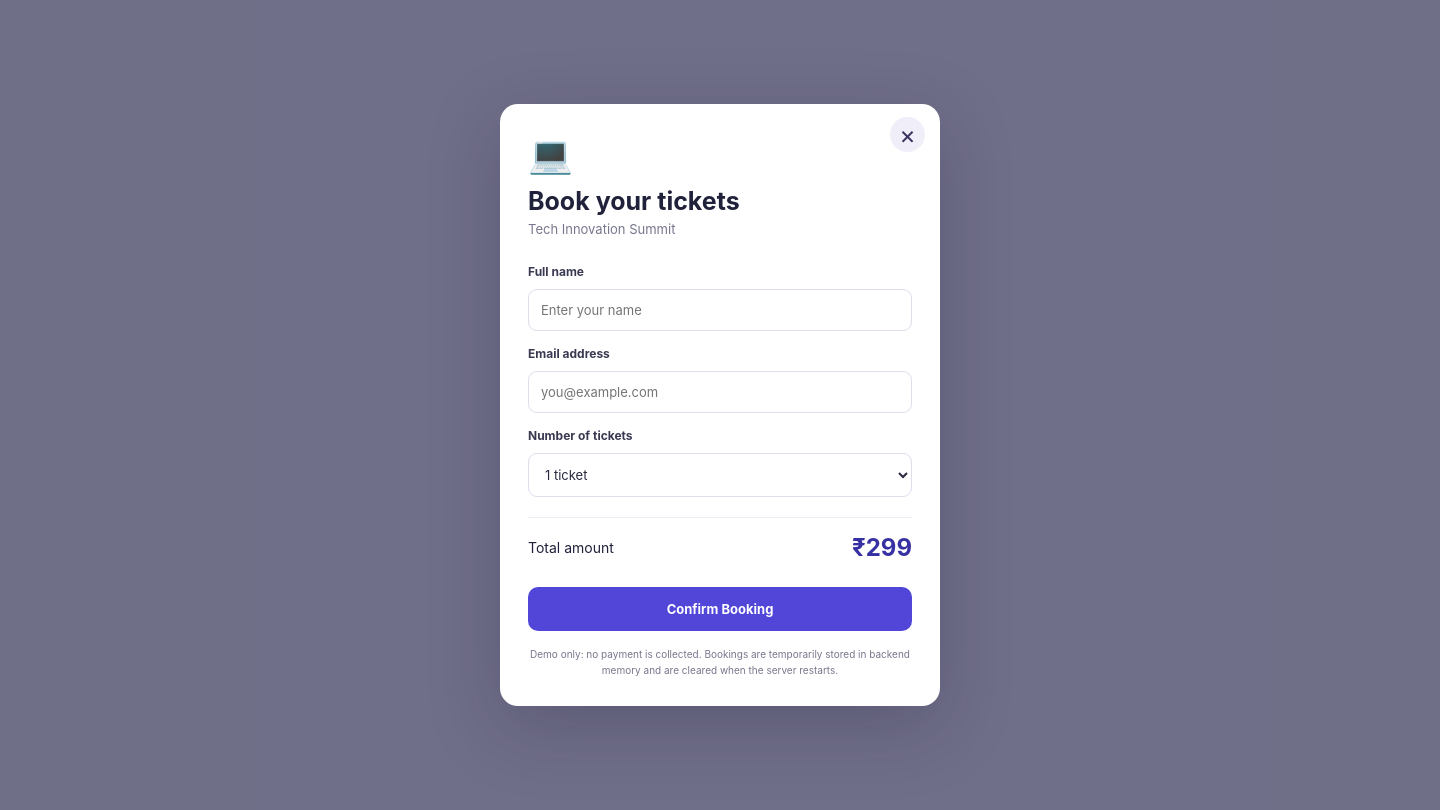
Scenario: TicketEase Booking Modal › updates the total when ticket quantity changes
The width and height of the screenshot is (1440, 810).
Select "2 tickets" in the dropdown labelled "Number of tickets" at (720, 475), box [528, 453, 912, 497]
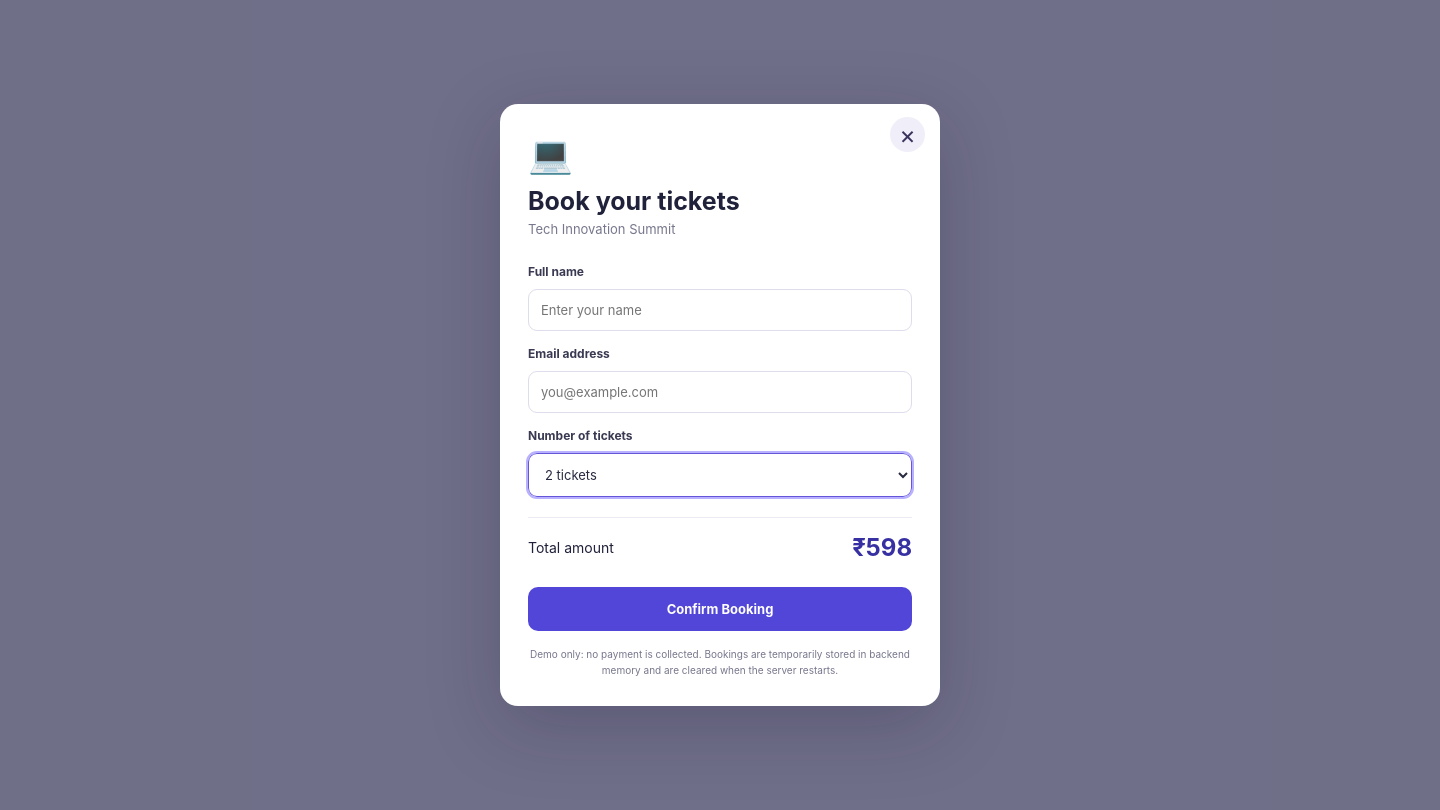
Expected: the text "₹598" is shown, [852, 533, 912, 562]
